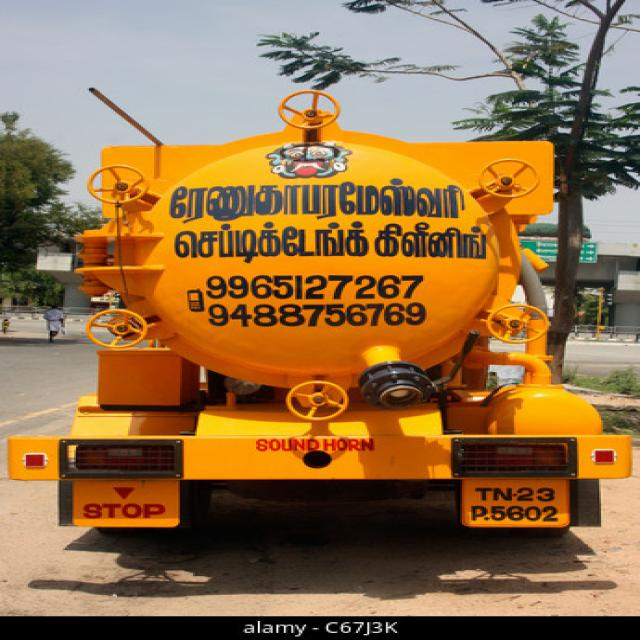truck: (10, 91, 630, 529)
